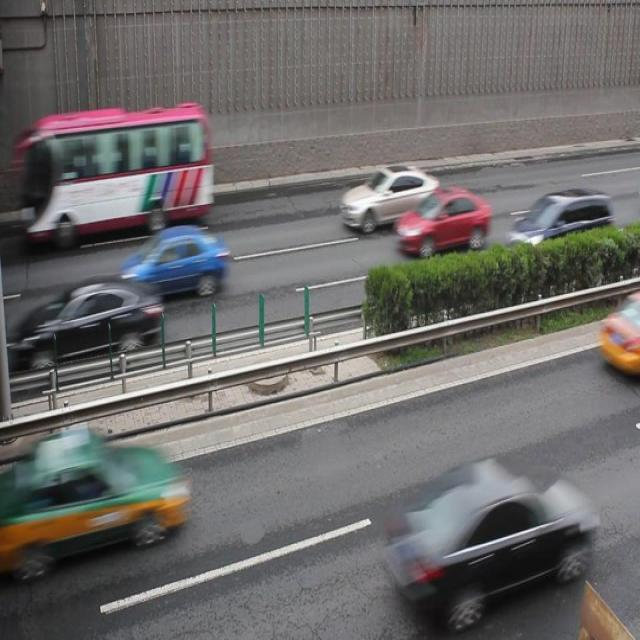car: (382, 457, 583, 626), (26, 428, 187, 570), (28, 278, 160, 366), (122, 225, 226, 298), (510, 188, 611, 256), (341, 167, 440, 230), (397, 185, 488, 249)
van: (29, 98, 212, 240)
